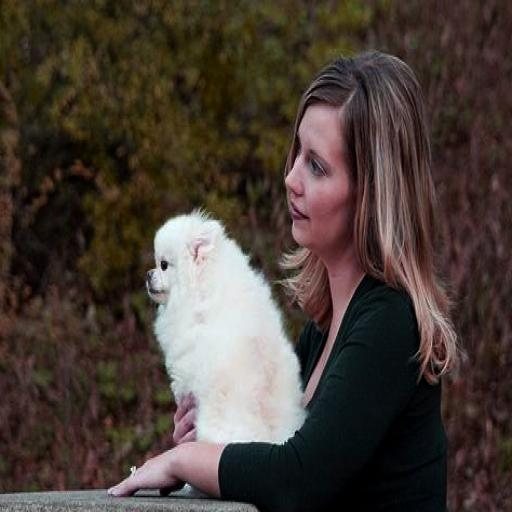dog_face: (145, 213, 216, 315)
